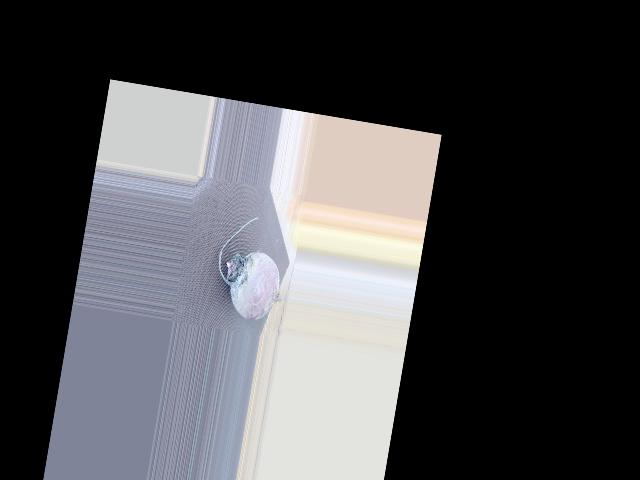beet: (209, 212, 301, 325)
